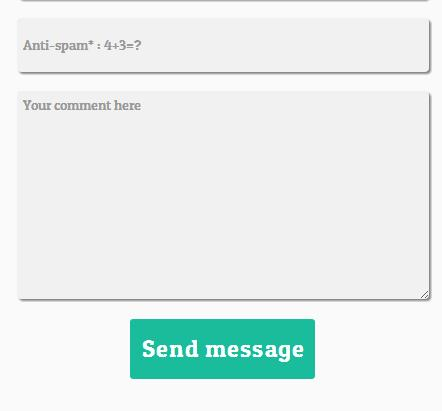button: (127, 316, 318, 381)
field: (13, 89, 432, 302), (15, 16, 434, 77)
